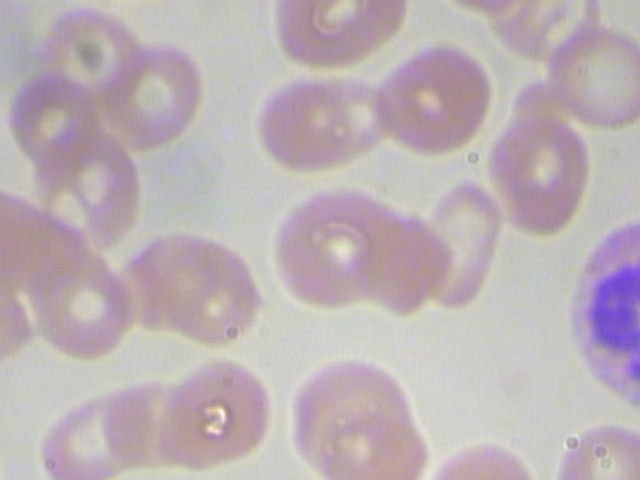RBC: (261, 180, 415, 320), (250, 61, 390, 172), (488, 107, 596, 245), (155, 353, 274, 474), (373, 42, 493, 156), (416, 173, 501, 312), (97, 43, 207, 149), (24, 256, 134, 362), (308, 389, 426, 480), (546, 20, 640, 134), (270, 0, 411, 74), (0, 71, 103, 170), (551, 414, 640, 480)
WBC: (568, 209, 640, 423)
